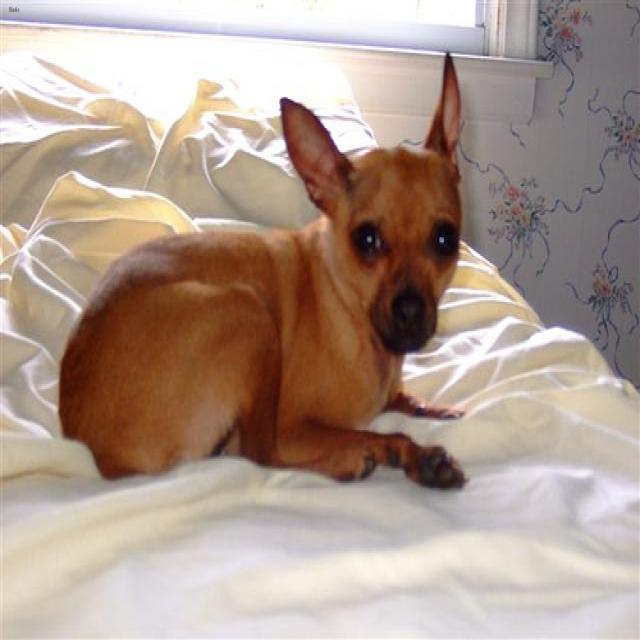dog: (278, 48, 461, 352)
